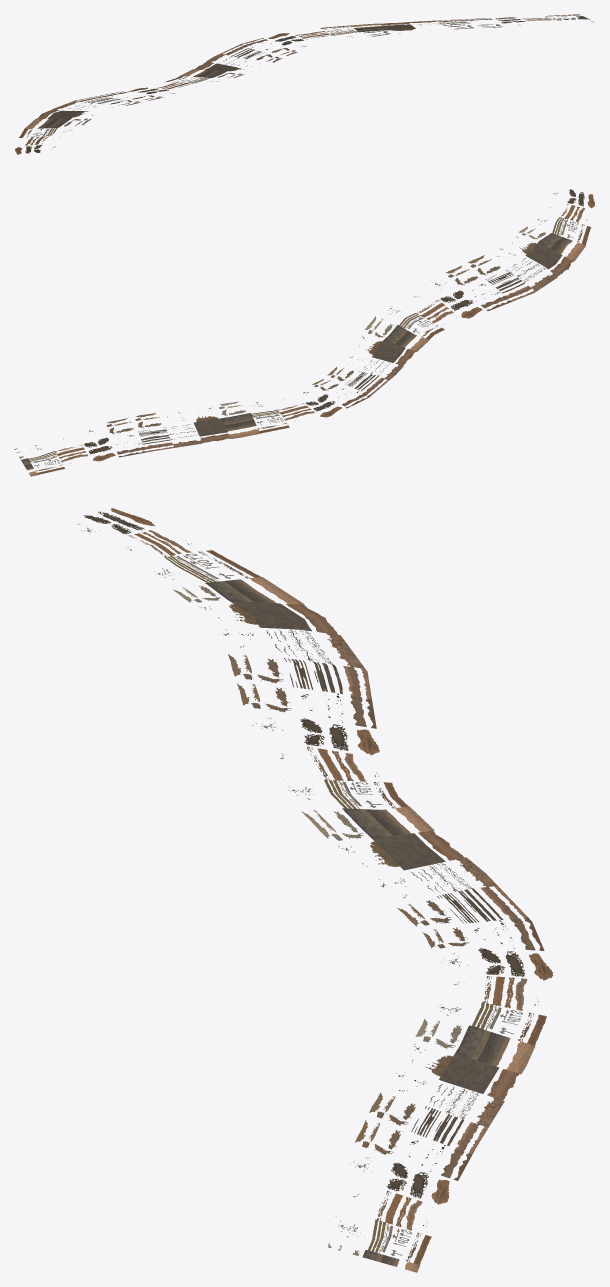
File: Tide_GenerateSurfaceDecal_8F38ED15_0_FlowDecal_SmallMesh_Mesh_x9_y5_149_0_ATLAS.fbx
3 renders of one model, top to bottom at view 1: azimuth 30°, elevation 25°; view 2: azimuth 210°, elevation 25°; view 3: azimuth 270°, elevation 25°, orthographic. The views are drawn at different scales.
Visible parts, largest first — view 1: Tide_GenerateSurfaceDecal_8F38ED15_0_FlowDecal_SmallMesh_Mes; view 2: Tide_GenerateSurfaceDecal_8F38ED15_0_FlowDecal_SmallMesh_Mes; view 3: Tide_GenerateSurfaceDecal_8F38ED15_0_FlowDecal_SmallMesh_Mes.
Boxes of the visible parts, x1,y1,x2,y2 form: Tide_GenerateSurfaceDecal_8F38ED15_0_FlowDecal_SmallMesh_Mes: (15,14,593,154); Tide_GenerateSurfaceDecal_8F38ED15_0_FlowDecal_SmallMesh_Mes: (14,189,594,476); Tide_GenerateSurfaceDecal_8F38ED15_0_FlowDecal_SmallMesh_Mes: (77,508,553,1272).
Size of the model in its own units: 1605 by 539 by 186.
